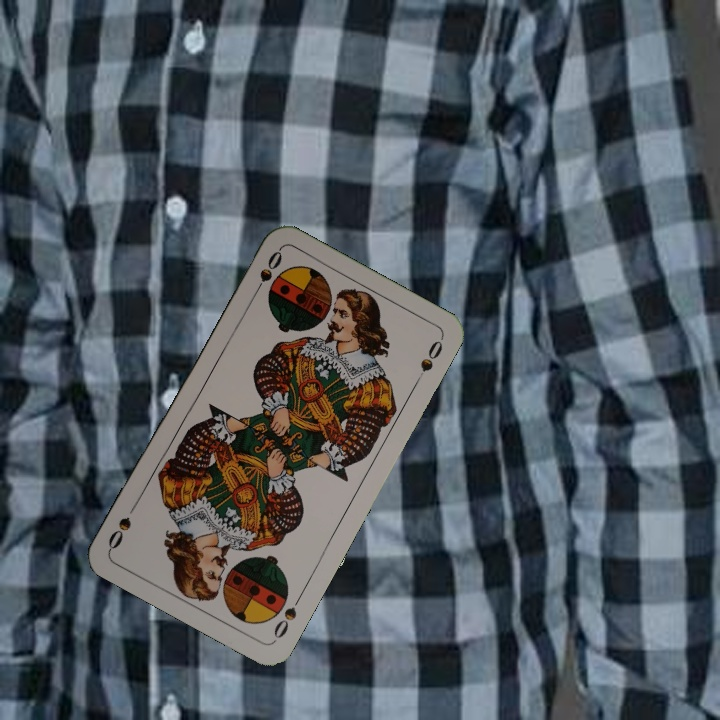SO: (248, 246, 285, 301), (269, 589, 305, 643)
